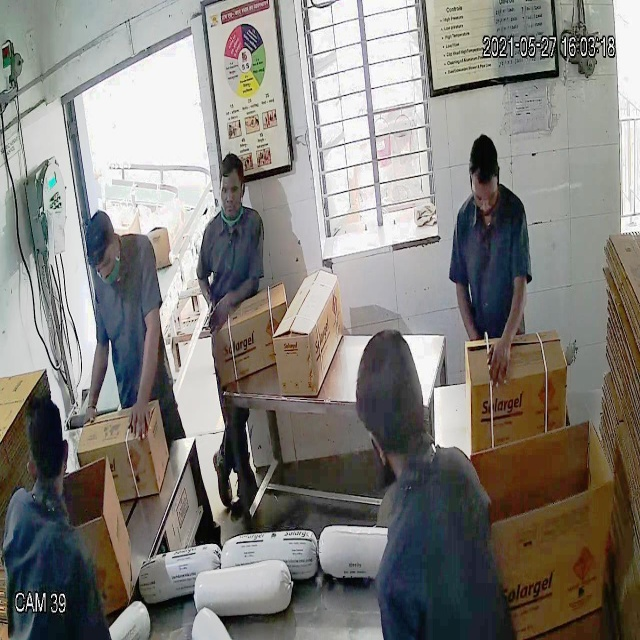Sin_gafas: (464, 180, 504, 212), (215, 175, 246, 204)
